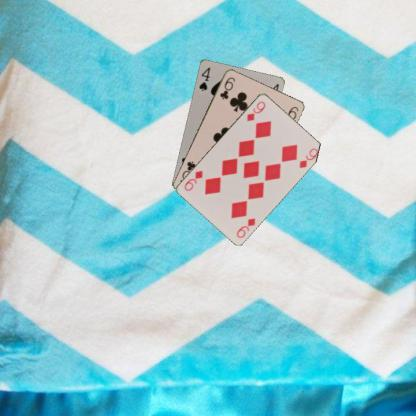4s: (196, 64, 212, 92)
6c: (218, 74, 236, 100)
9d: (234, 215, 257, 239), (244, 98, 266, 123)
